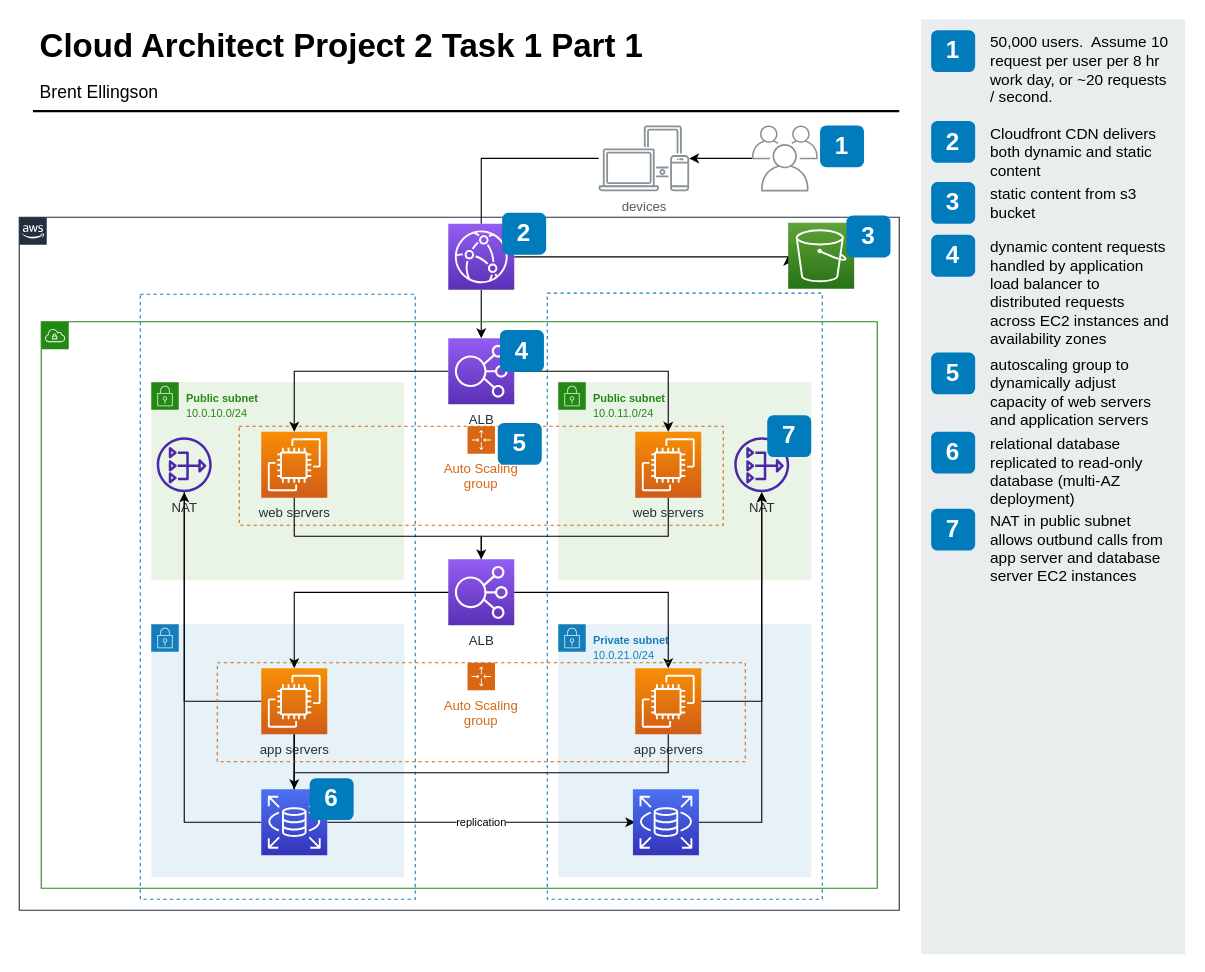
Some shapes in this 1205 by 972 pixel diagram are drawn without their labels. Each missing label, with the box of its shape:
Availability Zone A: (139, 293, 415, 899)
Availability Zone B: (546, 292, 822, 899)
AWS Cloud: (18, 216, 899, 910)
CloudFront: (447, 223, 514, 290)
Private subnet 10.0.20.0/24: (150, 623, 404, 877)
RDS Reader: (632, 788, 699, 855)
RDS Writer: (260, 788, 327, 855)
users: (751, 125, 817, 191)
VPC 10.0.0.0/16 us-east-1: (40, 321, 877, 888)
